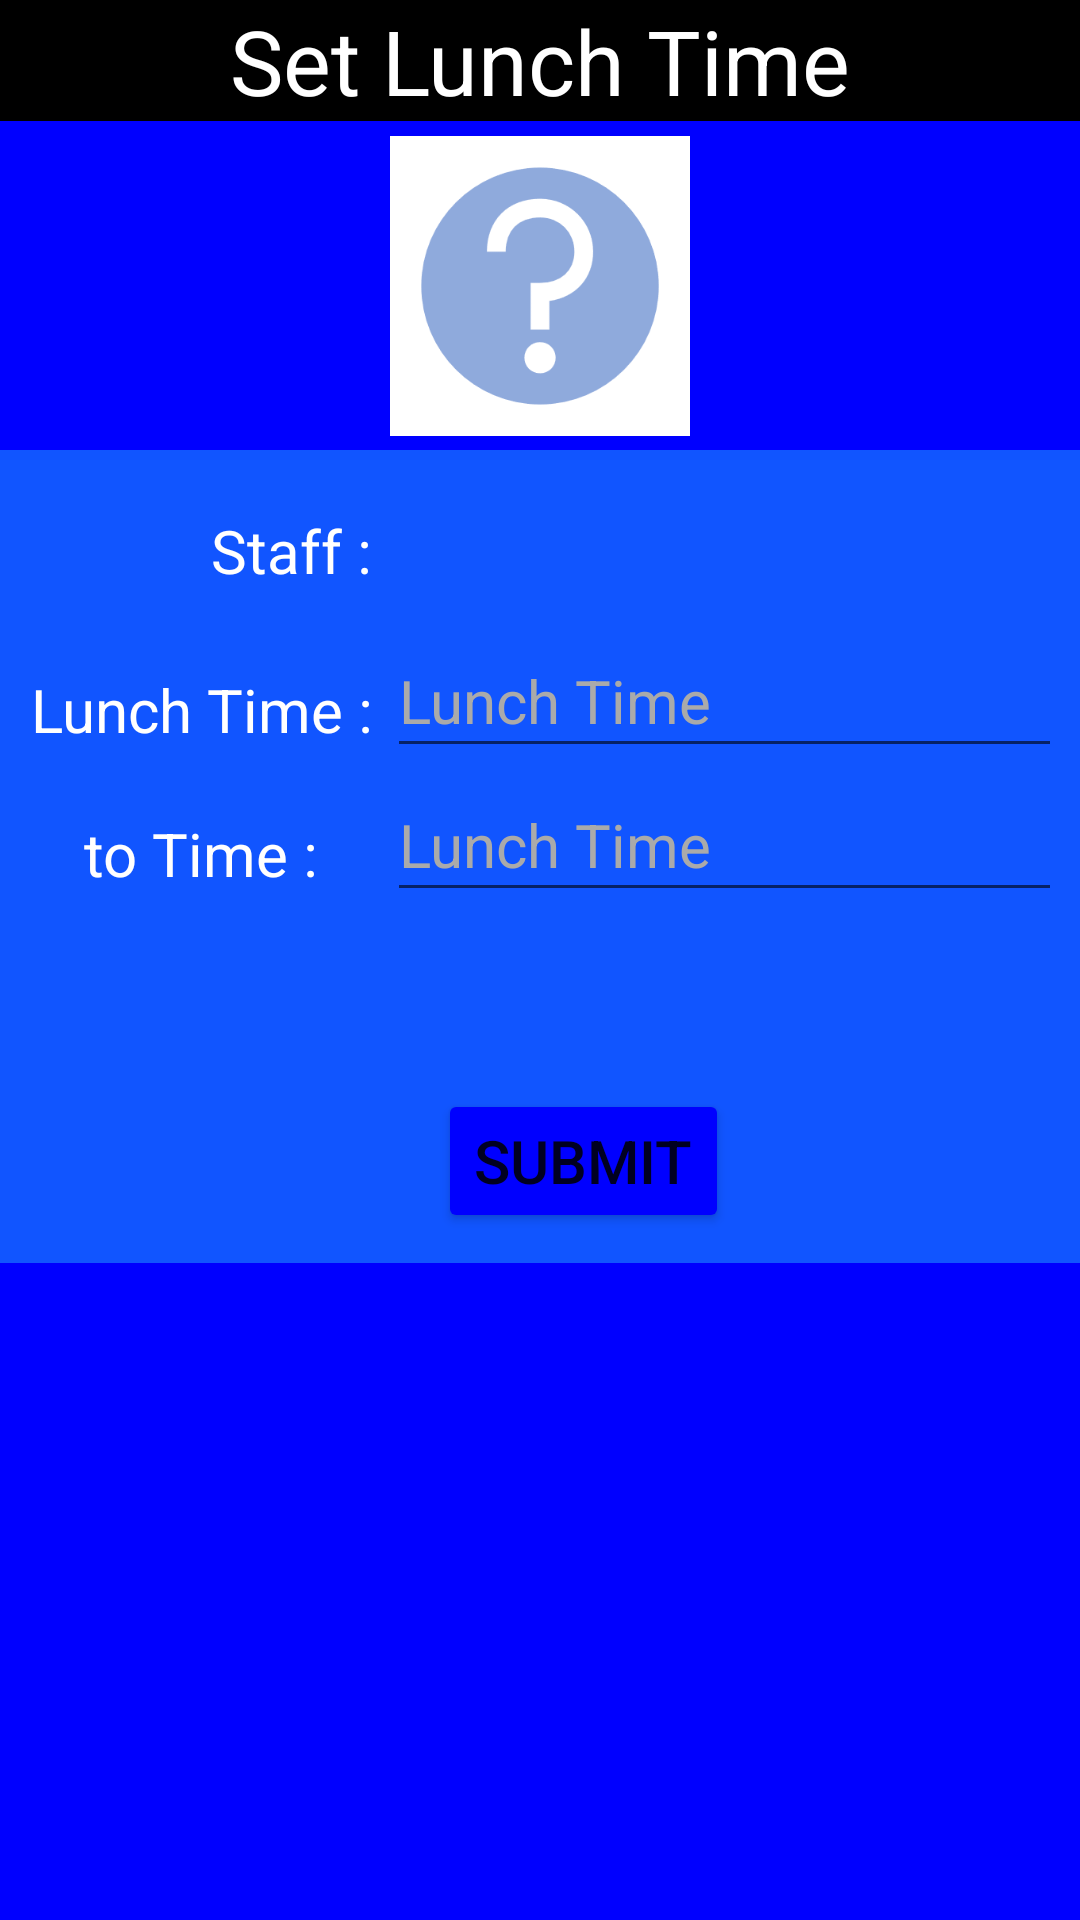

Locate icon controls on the screen. Image size 1080px x 1920px, boxes as [left=x1, top=y1, right=x2, bottom=y2].
ask: [left=390, top=136, right=690, bottom=436]
